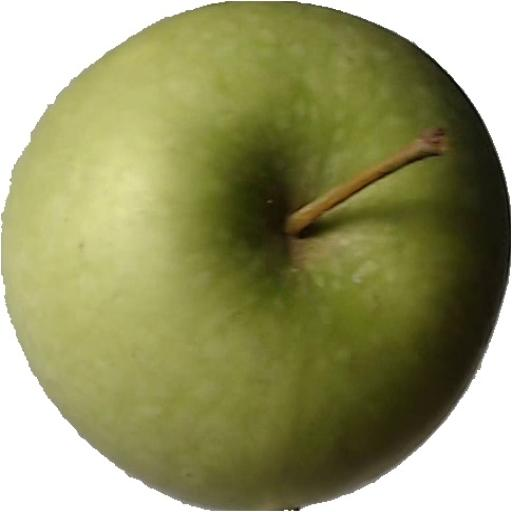apple-unripe: (1, 1, 512, 512)
